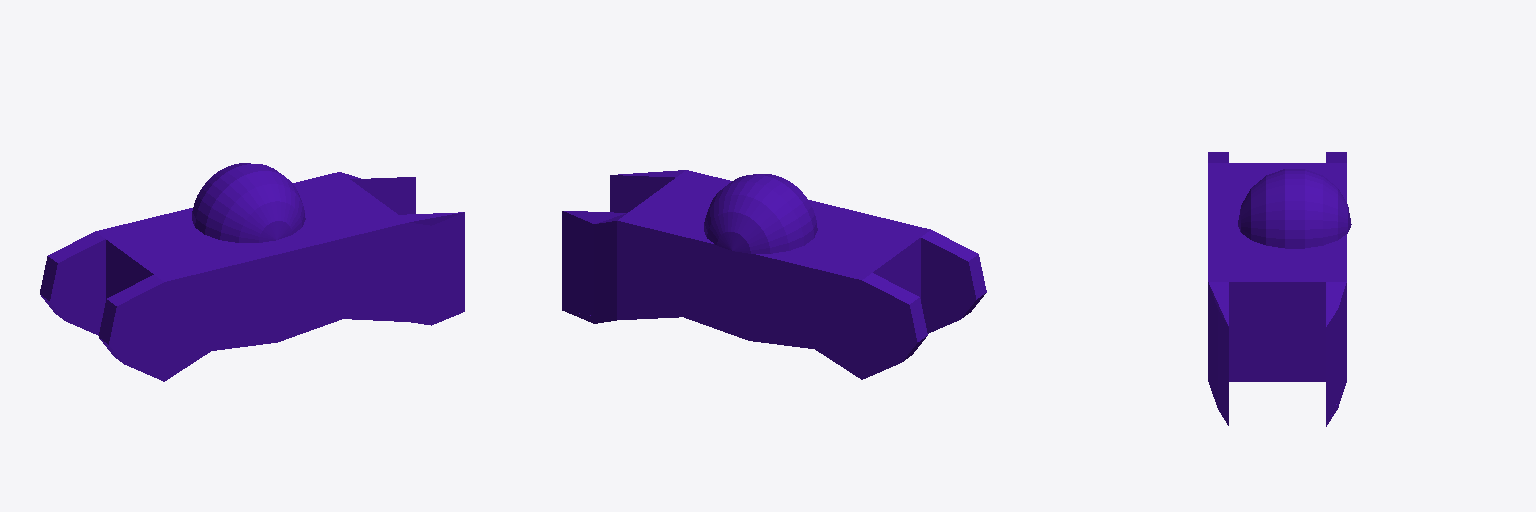
File: Player.obj
3 renders of one model, left to right at view 1: azimuth 30°, elevation 25°; view 2: azimuth 150°, elevation 25°; view 3: azimuth 270°, elevation 25°, orthographic.
Visible parts, largest first — view 1: Player; view 2: Player; view 3: Player.
Boxes of the visible parts, x1=… form: Player: x1=40, y1=163, x2=464, y2=381; Player: x1=562, y1=170, x2=986, y2=379; Player: x1=1208, y1=152, x2=1351, y2=426.
Bounding box in the file's own units: 1.85 × 0.7946 × 0.6287.